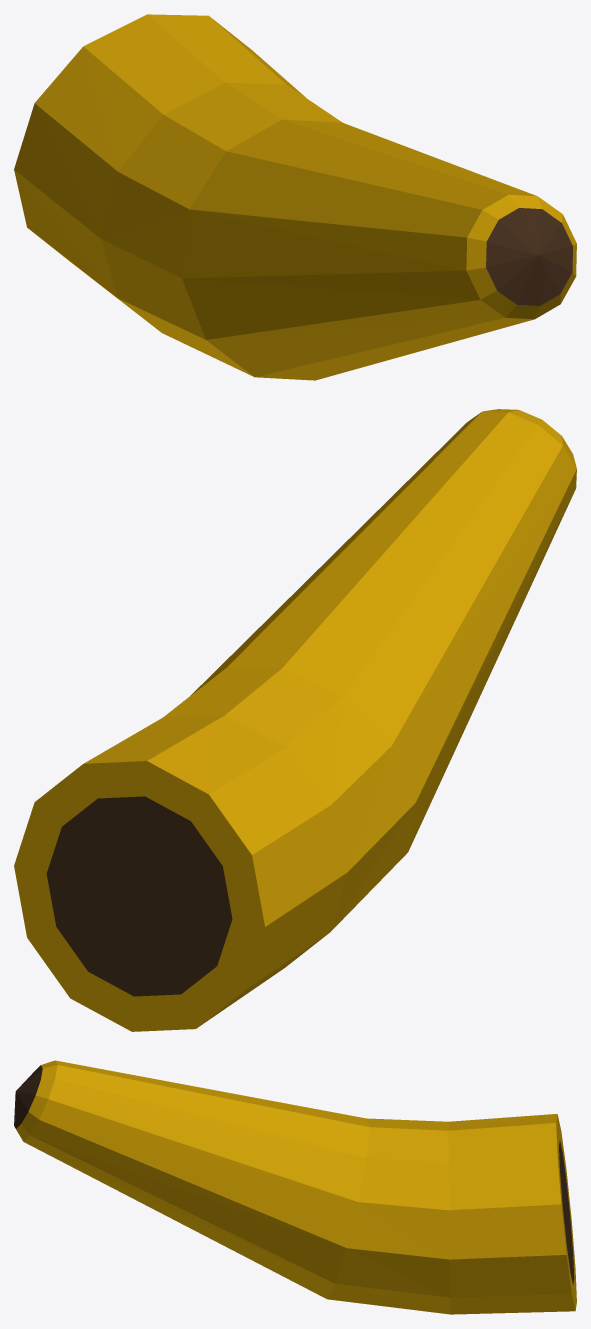
The model's file is banana_cut1.fbx.
3 renders of one model, top to bottom at view 1: azimuth 30°, elevation 25°; view 2: azimuth 150°, elevation 25°; view 3: azimuth 270°, elevation 25°, orthographic. The views are drawn at different scales.
Parts seen in each view (by area): view 1: Banana_Cut.1; view 2: Banana_Cut.1; view 3: Banana_Cut.1.
Boxes of the visible parts, left/top/right/bottom form: Banana_Cut.1: left=14, top=14, right=576, bottom=380; Banana_Cut.1: left=14, top=409, right=576, bottom=1031; Banana_Cut.1: left=14, top=1060, right=576, bottom=1314.
Size of the model in its own units: 68.35 by 90.74 by 192.
